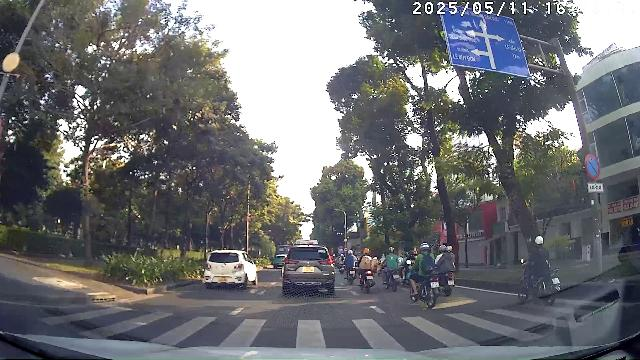131a-cam-do-xe: (584, 154, 600, 180)
